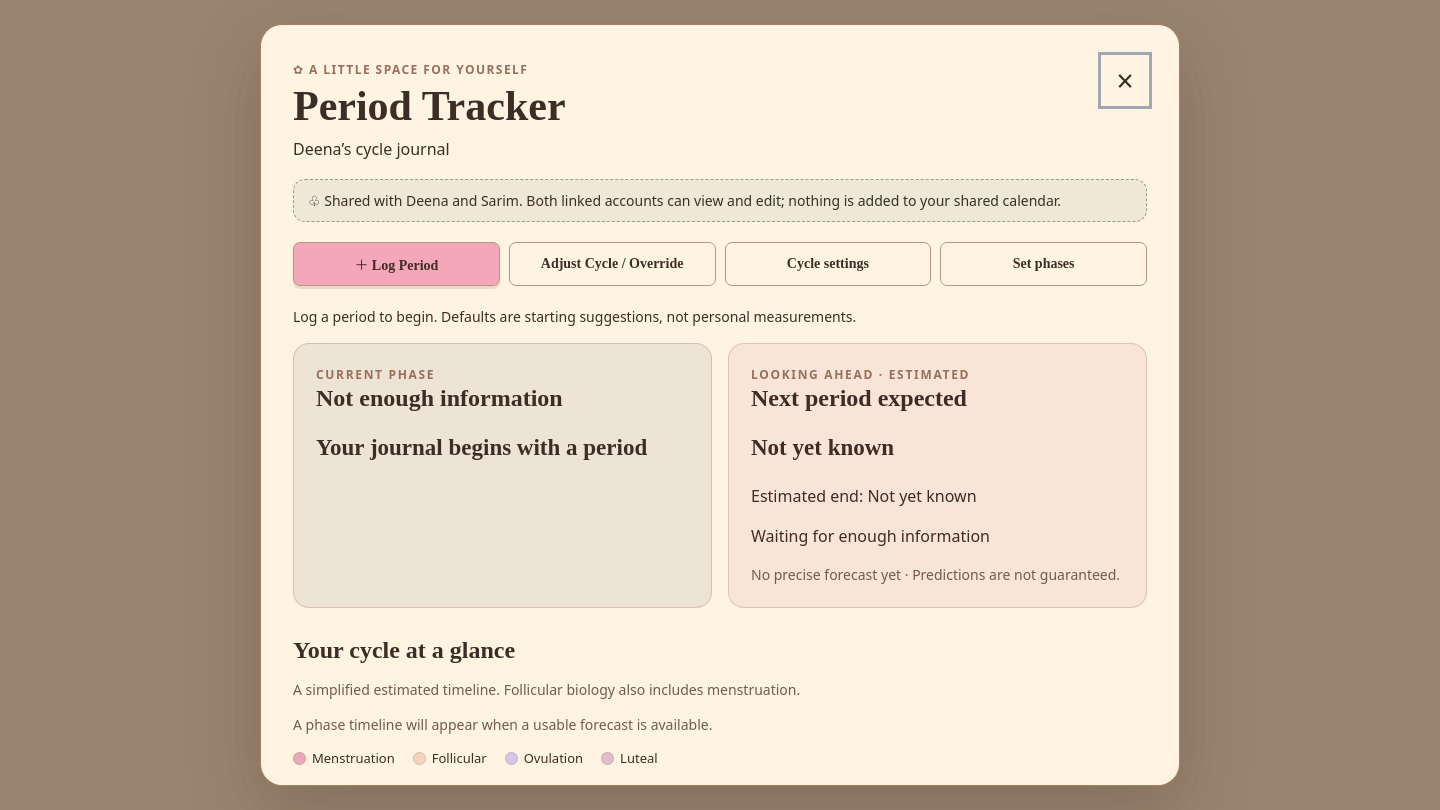
private cycle journal interactions with simulated persistence › lets Sarim save into Deena’s shared tracker and explains both-account access
This screenshot has width=1440, height=810.
Expected: the text "Both linked accounts can view and edit" is shown, x1=308 y1=191 x2=1061 y2=210
Click the button "＋ Log Period".
click(396, 264)  # box x1=293 y1=242 x2=500 y2=286
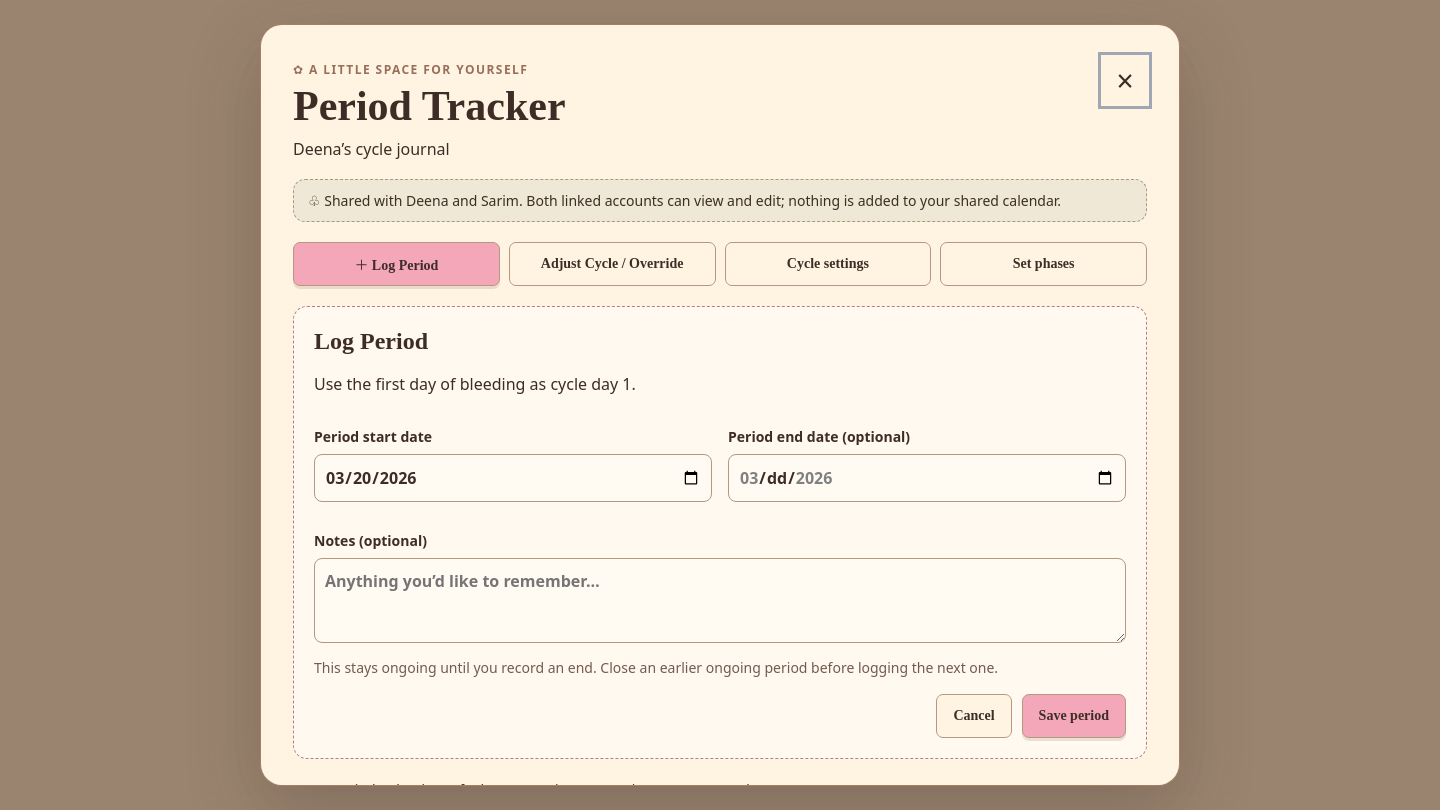
Click the button "Save period".
click(1074, 716)  # box x1=1022 y1=694 x2=1126 y2=738
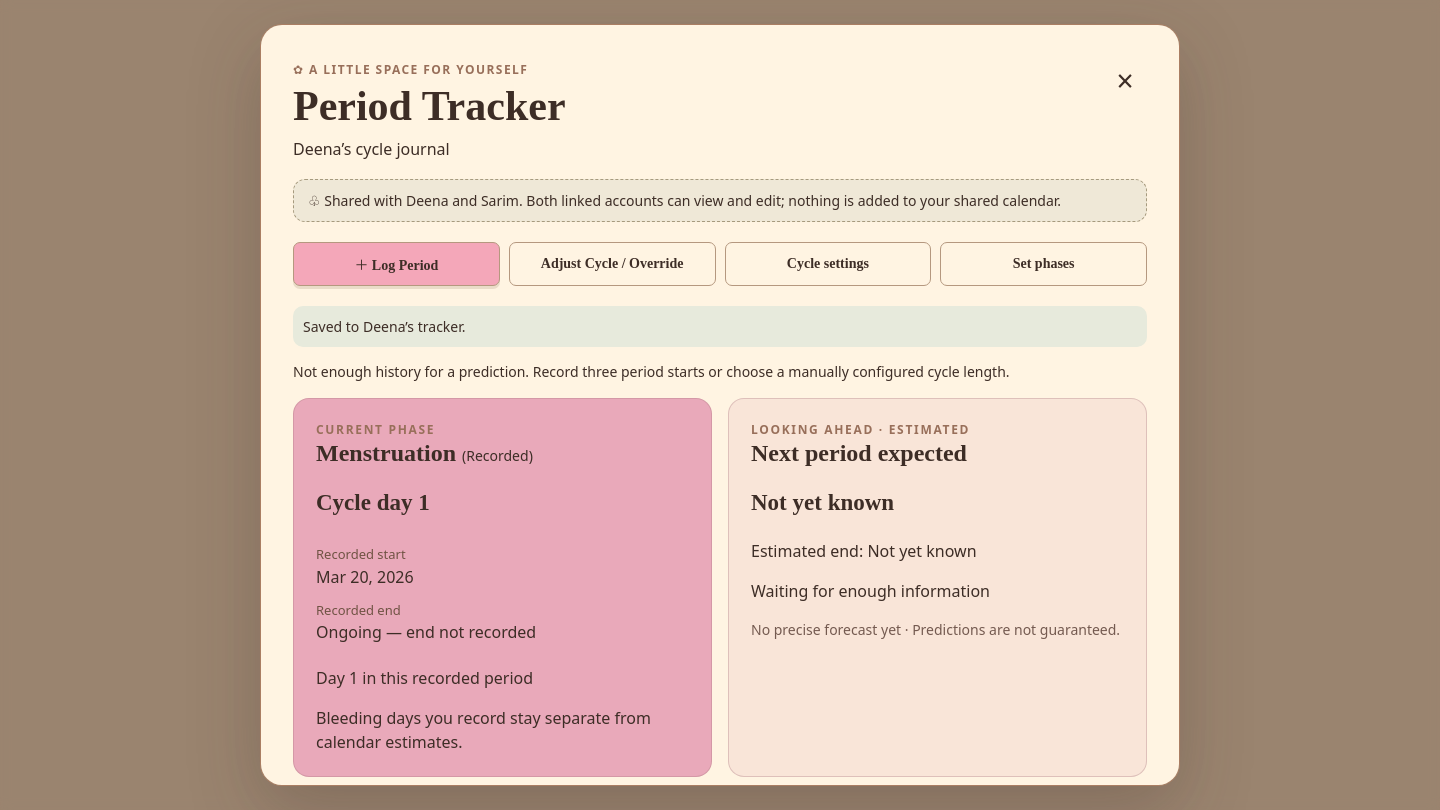
Expected: the text "Saved to Deena’s tracker." is shown, x1=293 y1=306 x2=1147 y2=347
